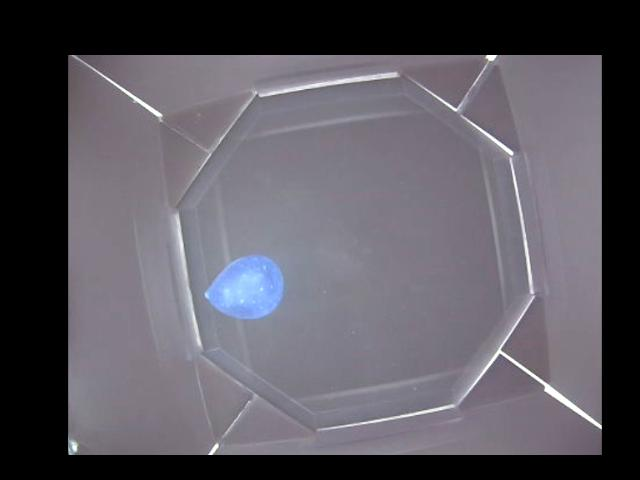Potato: (203, 255, 284, 320)
